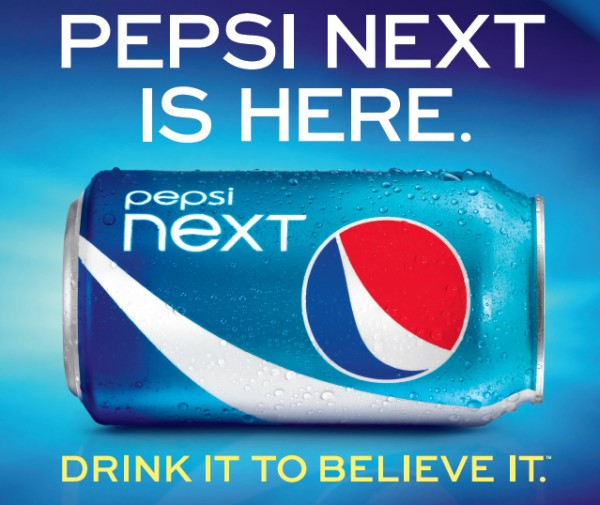pepsi: (294, 214, 469, 382), (298, 214, 469, 382)
